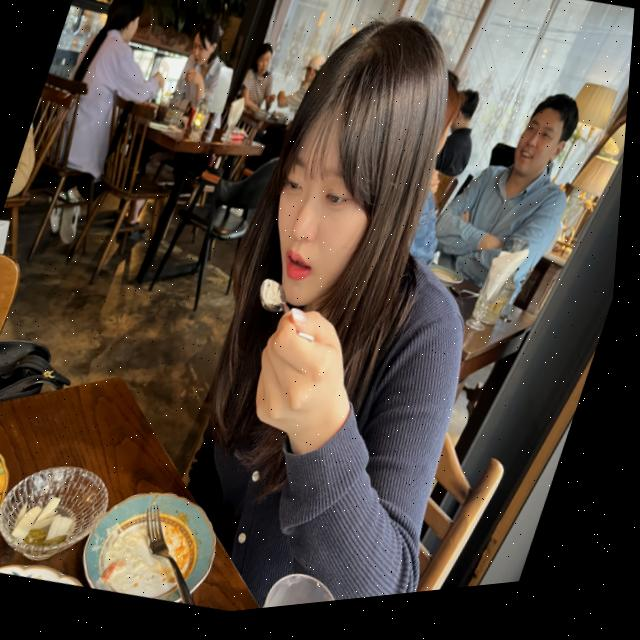eating-person: (128, 0, 596, 627)
